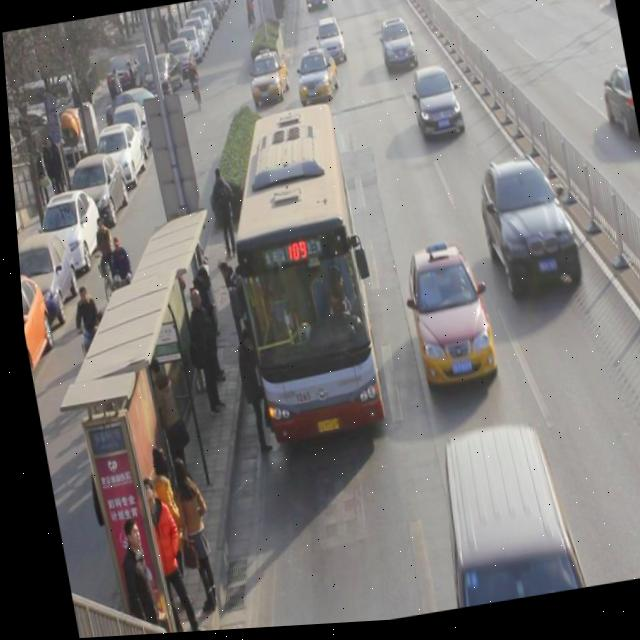car: (470, 157, 581, 307), (396, 243, 493, 395), (406, 67, 463, 146), (597, 69, 637, 151), (290, 48, 341, 111), (243, 50, 292, 111), (376, 20, 418, 78), (314, 20, 347, 70), (301, 0, 328, 16), (454, 0, 486, 2)
truck: (420, 421, 576, 614)
van: (209, 107, 383, 447)
